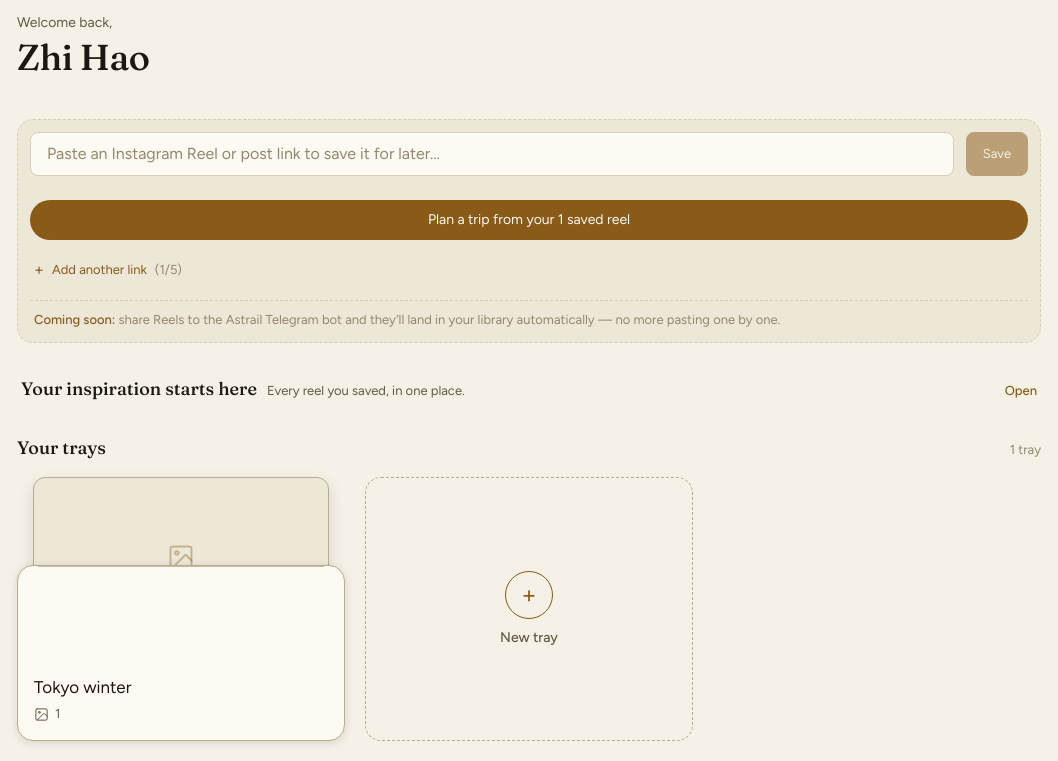
Test: TraysScreen › keeps a removed reel gone when the post-write refresh READ fails (reconciliation is load-bearing, C-new-2)
Click the button "Tokyo winter": (83, 687) [34,677,328,699]
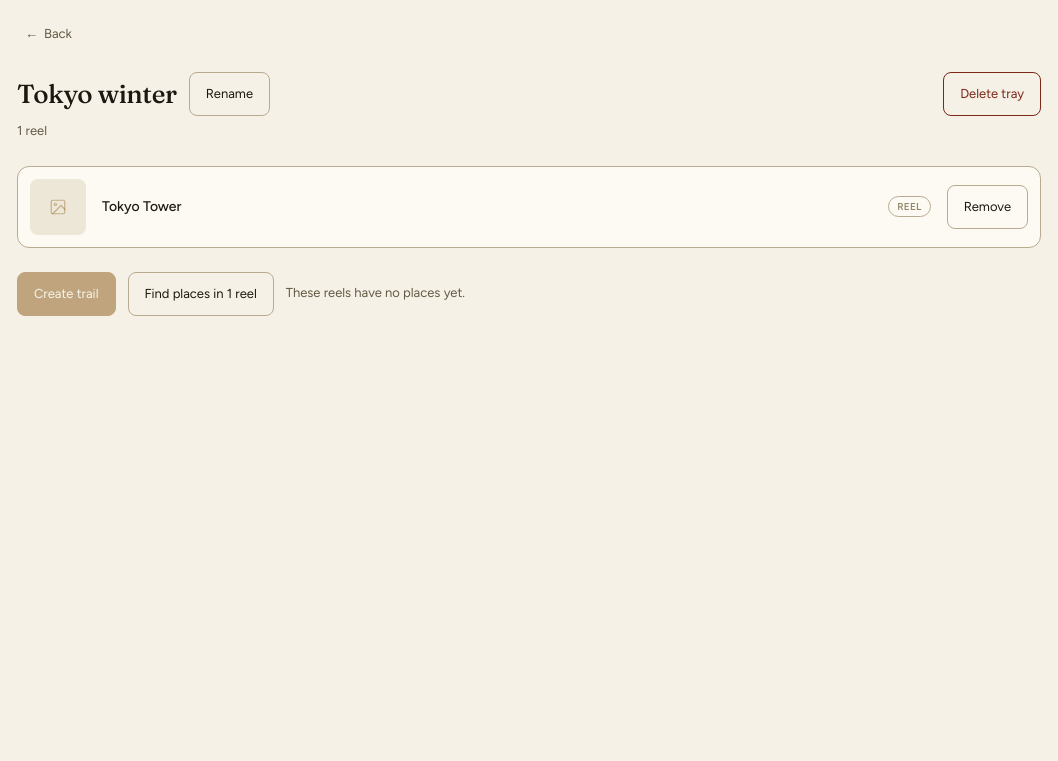
Expected: the heading "Tokyo winter" is shown, [17,74,177,114]
Expected: the text "Tokyo Tower" is shown, [102,198,181,215]
Click the button with aria-label "Remove Tokyo Tower": (987, 206) [947,184,1028,228]
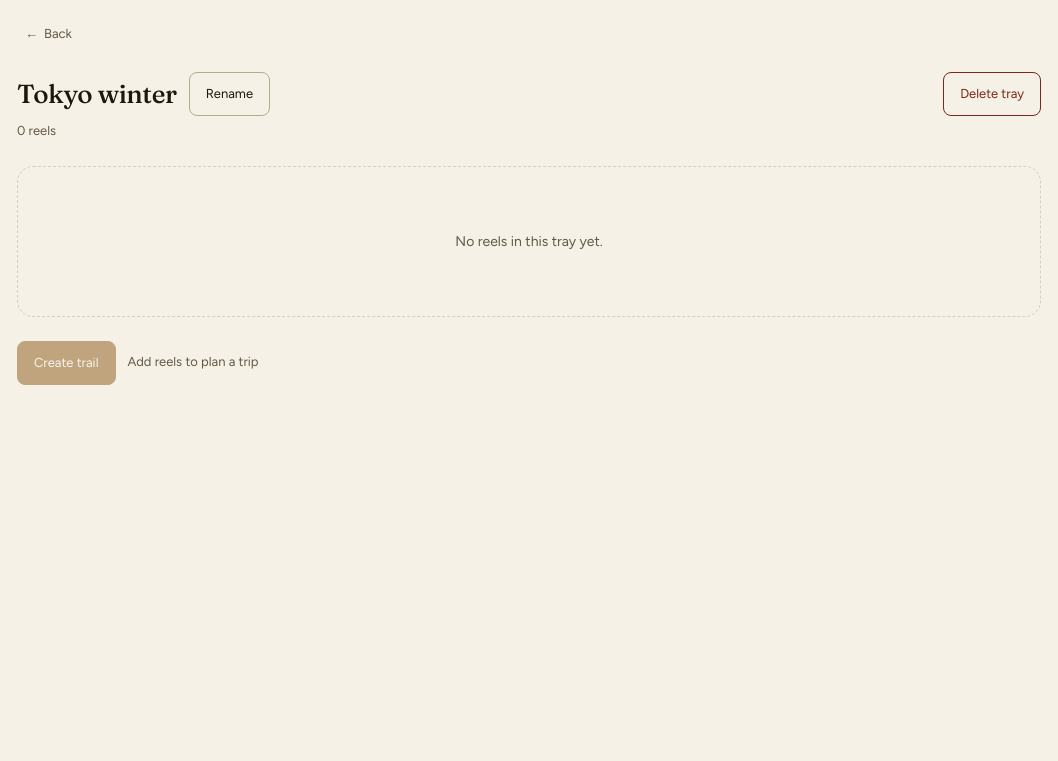
Expected: the text "Tokyo Tower" is gone
